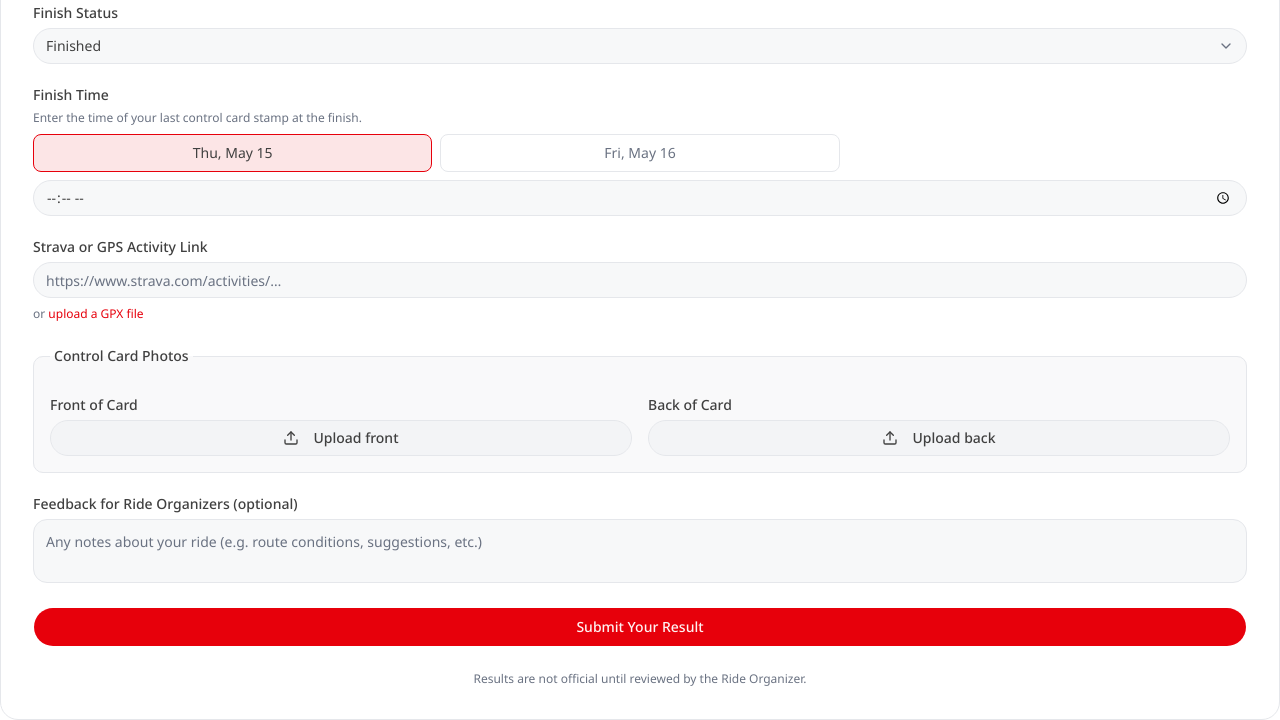
Scenario: ResultSubmissionForm › finish time validation › clears the inline error once the rider fixes the time
(page scrolled)
Click the button "Submit Your Result" at (640, 627), box [33,607,1247,647]
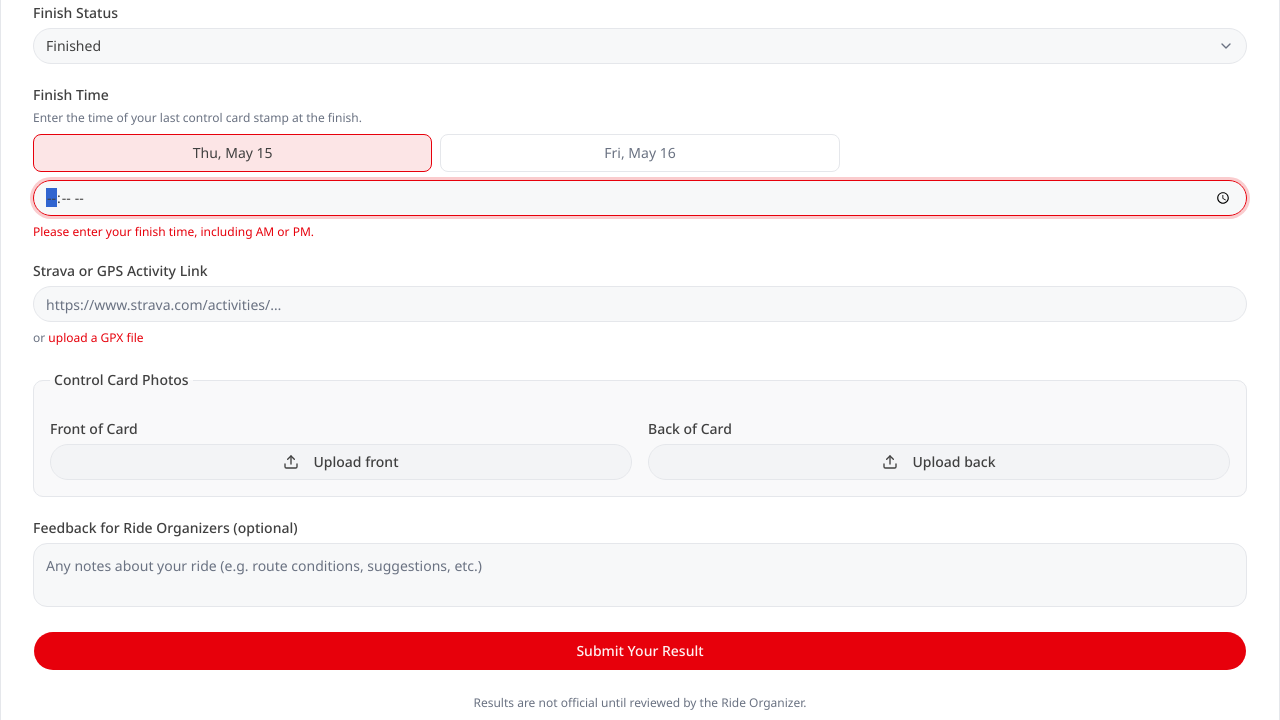
Now the text "Please enter your finish time, including AM or PM." is shown, box [33,223,314,240]
Type "20:00" into the time field labelled "Finish Time" at (640, 198), box [33,180,1247,216]
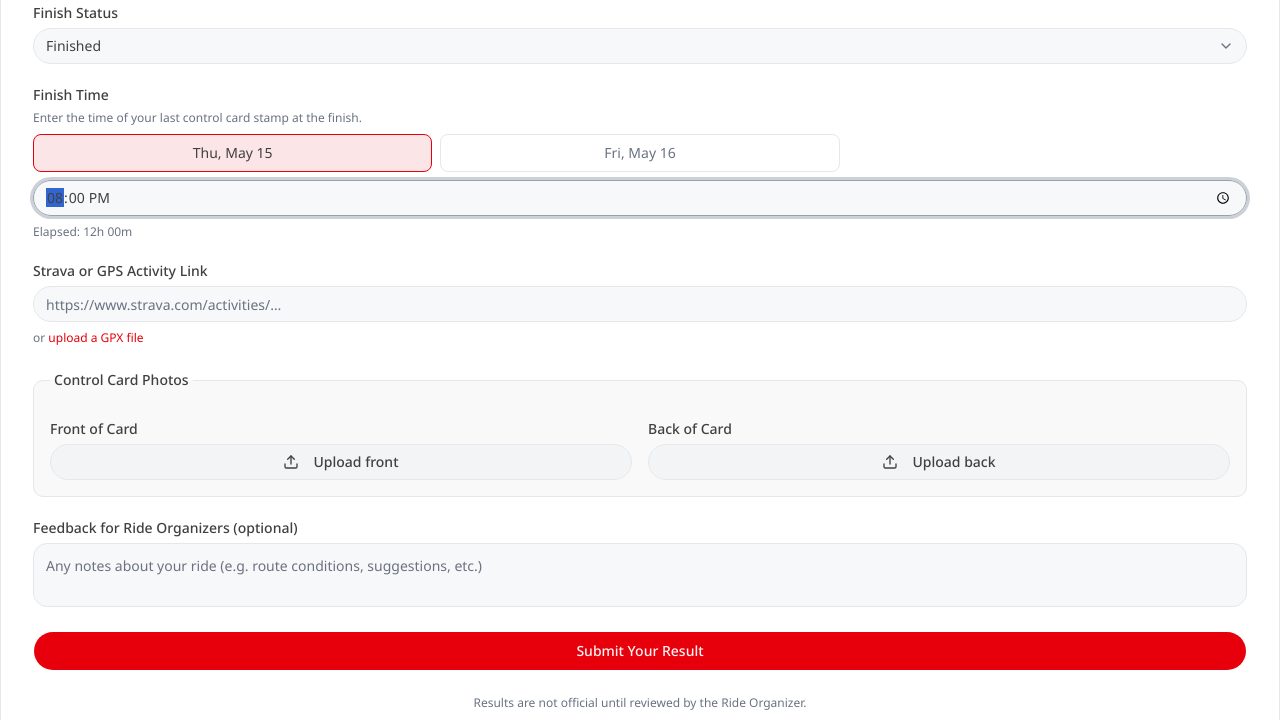
Now the text "enter your finish time, including AM or PM" is gone
